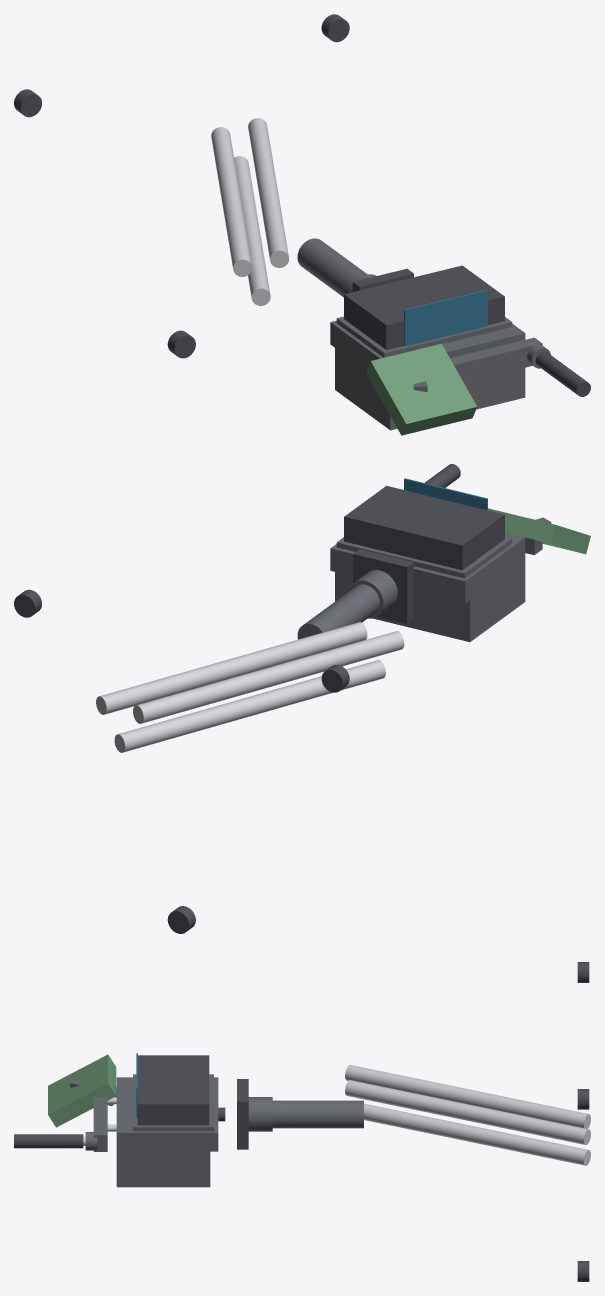
File: groundstation.glb
3 views of the same model, one above another, from view 1: azimuth 30°, elevation 25°; view 2: azimuth 150°, elevation 25°; view 3: azimuth 270°, elevation 25° (orthographic). The views are drawn at different scales.
Visible parts, largest first — view 1: o1.15.1, o1.19.1, o1.20.1, o1.28.1, o1.26.1, o1.1.1, o1.24.1, o1.10.1, o1.23.1, o1.9.1, o1.6.1, o1.17.1 (+5 smaller); view 2: o1.19.1, o1.28.1, o1.26.1, o1.24.1, o1.1.1, o1.7.1, o1.9.1, o1.21.1, o1.23.1, o1.15.1, o1.17.1, o1.20.1 (+4 smaller); view 3: o1.19.1, o1.26.1, o1.28.1, o1.24.1, o1.1.1, o1.8.1, o1.15.1, o1.23.1, o1.14.1, o1.17.1, o1.22.1, o1.21.1 (+1 smaller).
Boxes of the visible parts, x1,y1,x2,y2 form: o1.15.1: (366, 343, 476, 435); o1.19.1: (344, 265, 504, 349); o1.20.1: (404, 289, 487, 346); o1.28.1: (211, 127, 252, 276); o1.26.1: (248, 118, 288, 267); o1.1.1: (330, 320, 525, 370); o1.24.1: (234, 156, 270, 305); o1.10.1: (450, 337, 542, 382); o1.23.1: (297, 238, 366, 297); o1.9.1: (337, 350, 387, 427); o1.6.1: (387, 367, 525, 430); o1.17.1: (336, 316, 512, 357); o1.19.1: (344, 485, 504, 570); o1.28.1: (133, 631, 404, 723); o1.26.1: (96, 622, 367, 714); o1.24.1: (114, 660, 385, 752); o1.1.1: (330, 532, 525, 603); o1.7.1: (335, 572, 472, 642); o1.9.1: (470, 561, 523, 641); o1.21.1: (353, 549, 413, 623); o1.23.1: (297, 584, 379, 639); o1.15.1: (488, 508, 590, 554); o1.17.1: (336, 537, 512, 578); o1.20.1: (404, 478, 487, 510); o1.19.1: (137, 1055, 209, 1125); o1.26.1: (345, 1080, 590, 1144); o1.28.1: (345, 1065, 590, 1128); o1.24.1: (364, 1103, 590, 1165); o1.1.1: (116, 1077, 218, 1151); o1.8.1: (119, 1151, 209, 1187); o1.15.1: (48, 1054, 116, 1127); o1.23.1: (272, 1100, 363, 1128); o1.14.1: (14, 1134, 83, 1148); o1.17.1: (133, 1074, 213, 1131); o1.22.1: (248, 1097, 272, 1131); o1.21.1: (237, 1079, 248, 1149).
Size of the model in its own units: 0.2778 by 0.243 by 0.4994.
